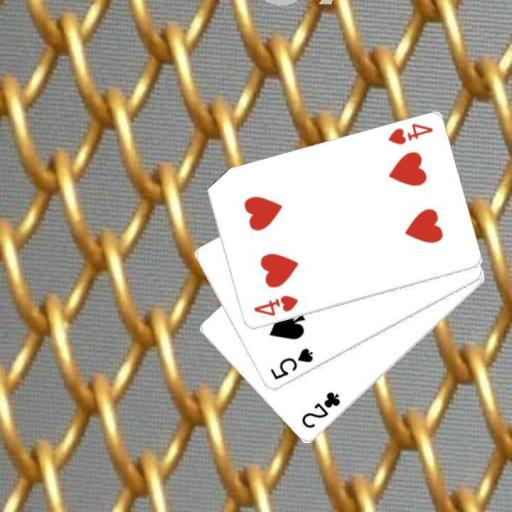card-corner: (298, 388, 342, 430), (267, 345, 315, 382), (250, 292, 300, 319), (384, 120, 434, 147)
